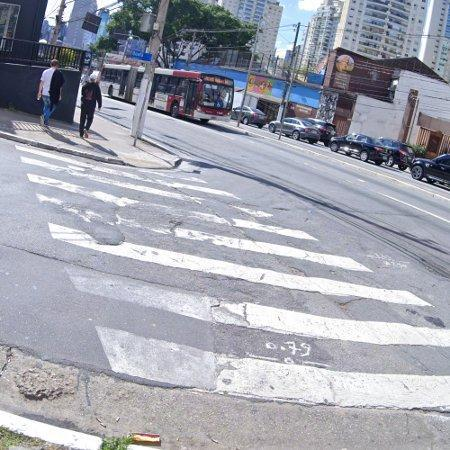crosswalks: (18, 147, 450, 411)
